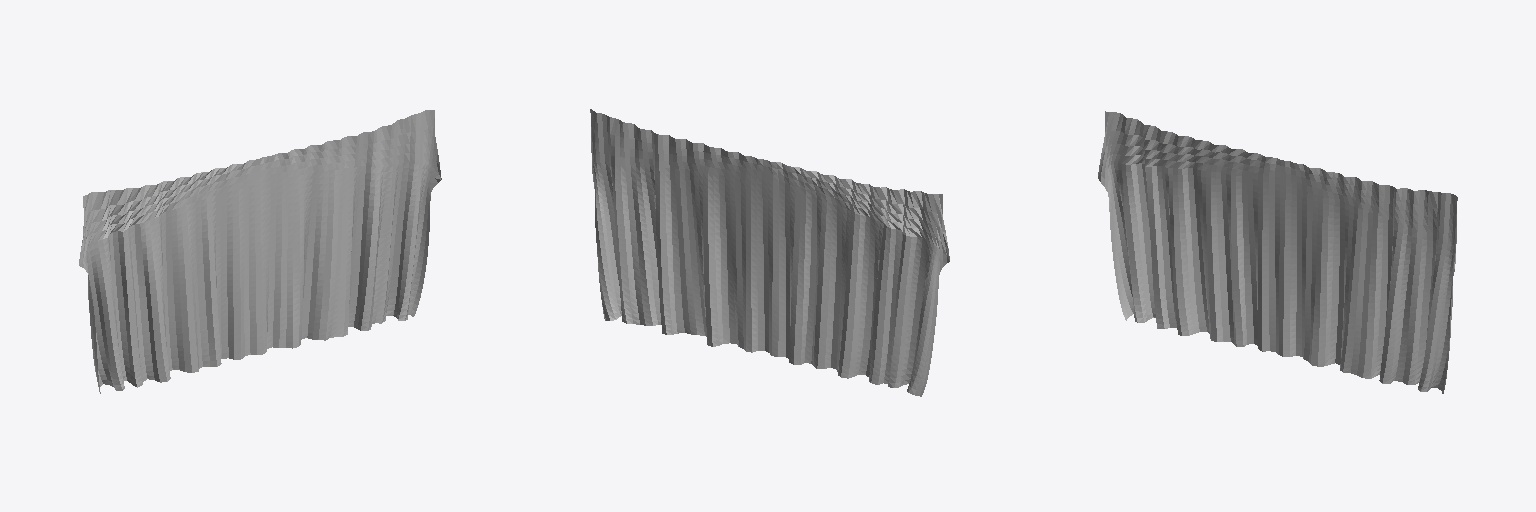
Rendered from curtainBack.obj.
3 views of the same model, side by side, from view 1: azimuth 30°, elevation 25°; view 2: azimuth 150°, elevation 25°; view 3: azimuth 330°, elevation 25° (orthographic).
Visible parts, largest first — view 1: Curtains_Plane.011; view 2: Curtains_Plane.011; view 3: Curtains_Plane.011.
Part boxes in pixels (x1,y1,x2,y2): Curtains_Plane.011: (79,110,441,393); Curtains_Plane.011: (590,109,949,396); Curtains_Plane.011: (1098,111,1457,393).
Size of the model in its own units: 12.47 by 6.84 by 0.7152.